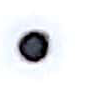cancer: (1, 17, 65, 79)
